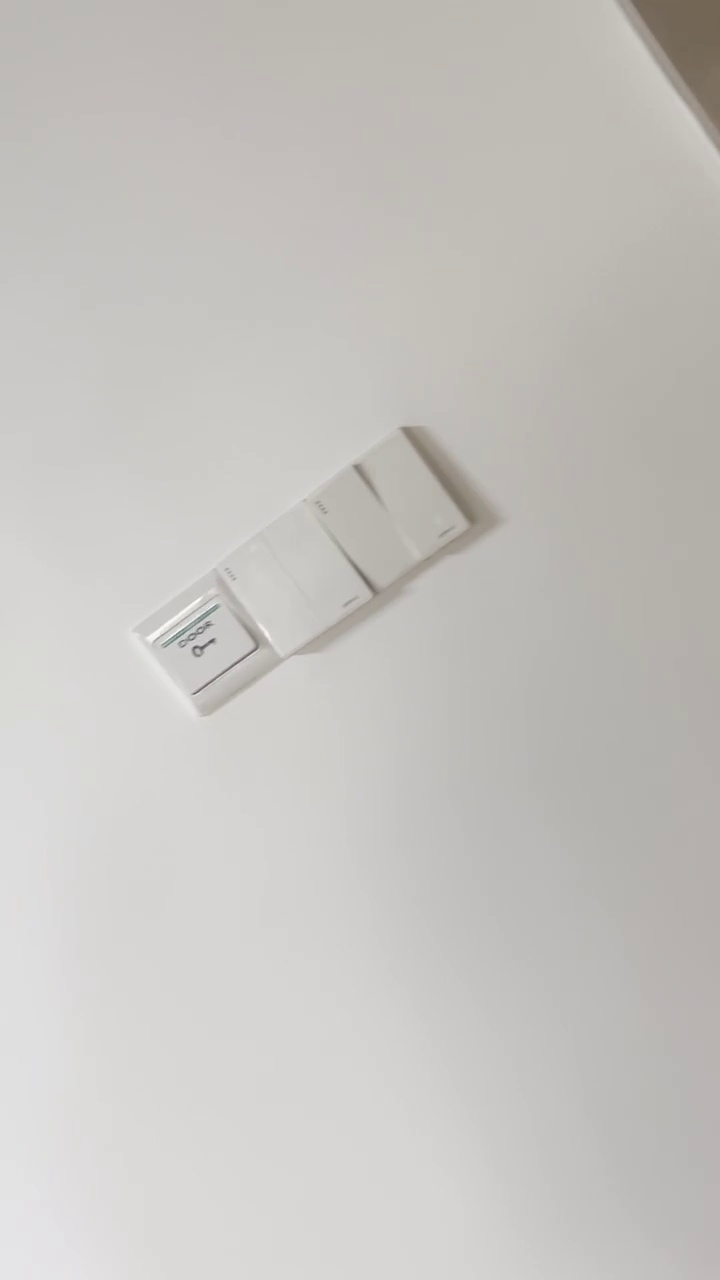button: (305, 424, 483, 591), (217, 498, 380, 663)
